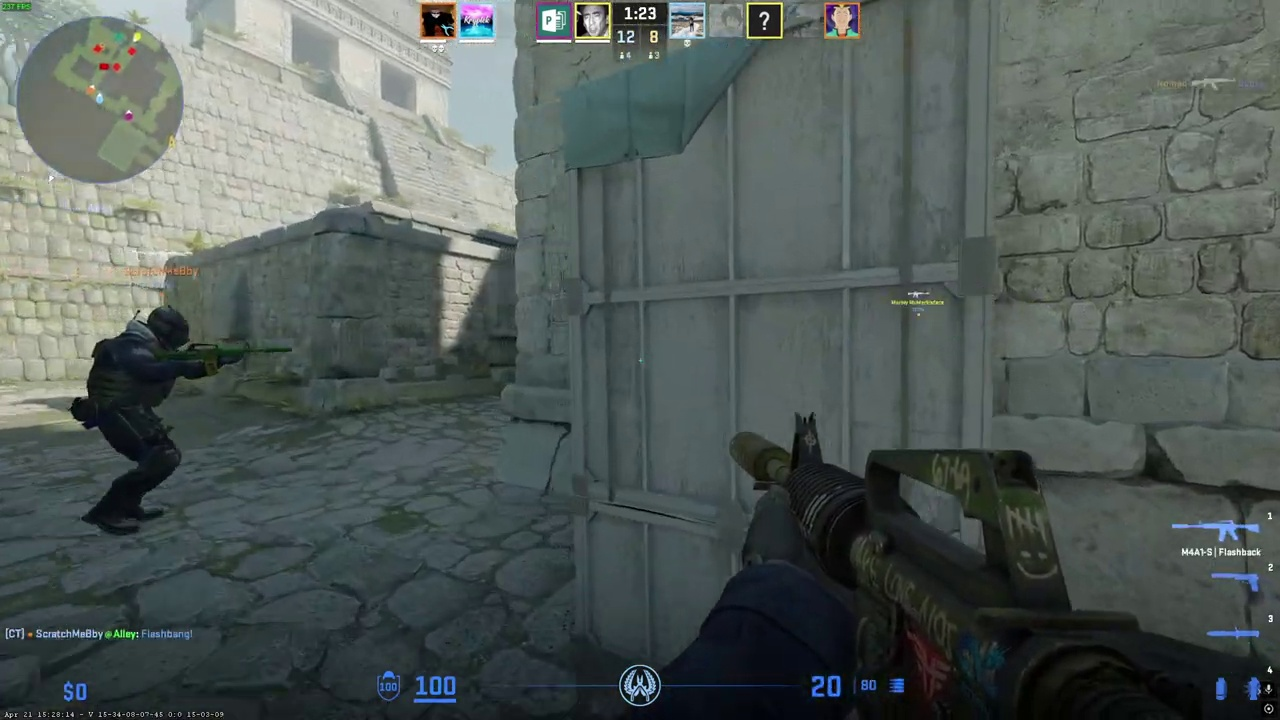CT: (82, 304, 195, 534)
